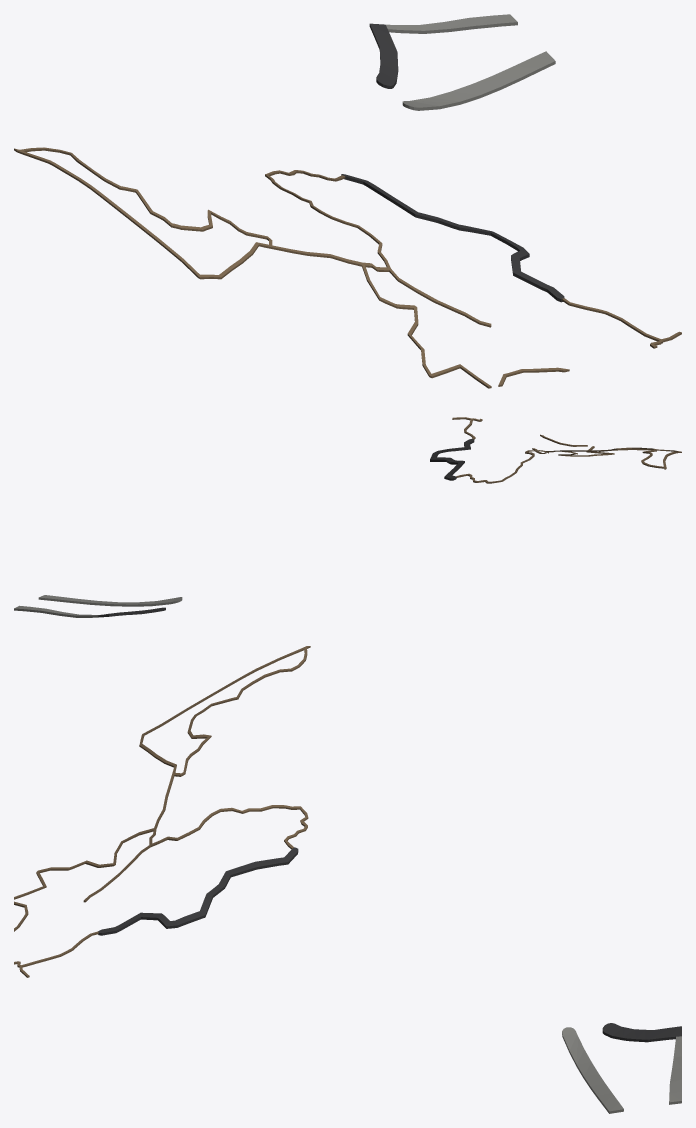
3 views of the same model, one above another, from view 1: azimuth 30°, elevation 25°; view 2: azimuth 150°, elevation 25°; view 3: azimuth 270°, elevation 25° (orthographic). The views are drawn at different scales.
Size of the model in its own units: 293 by 89.01 by 292.
